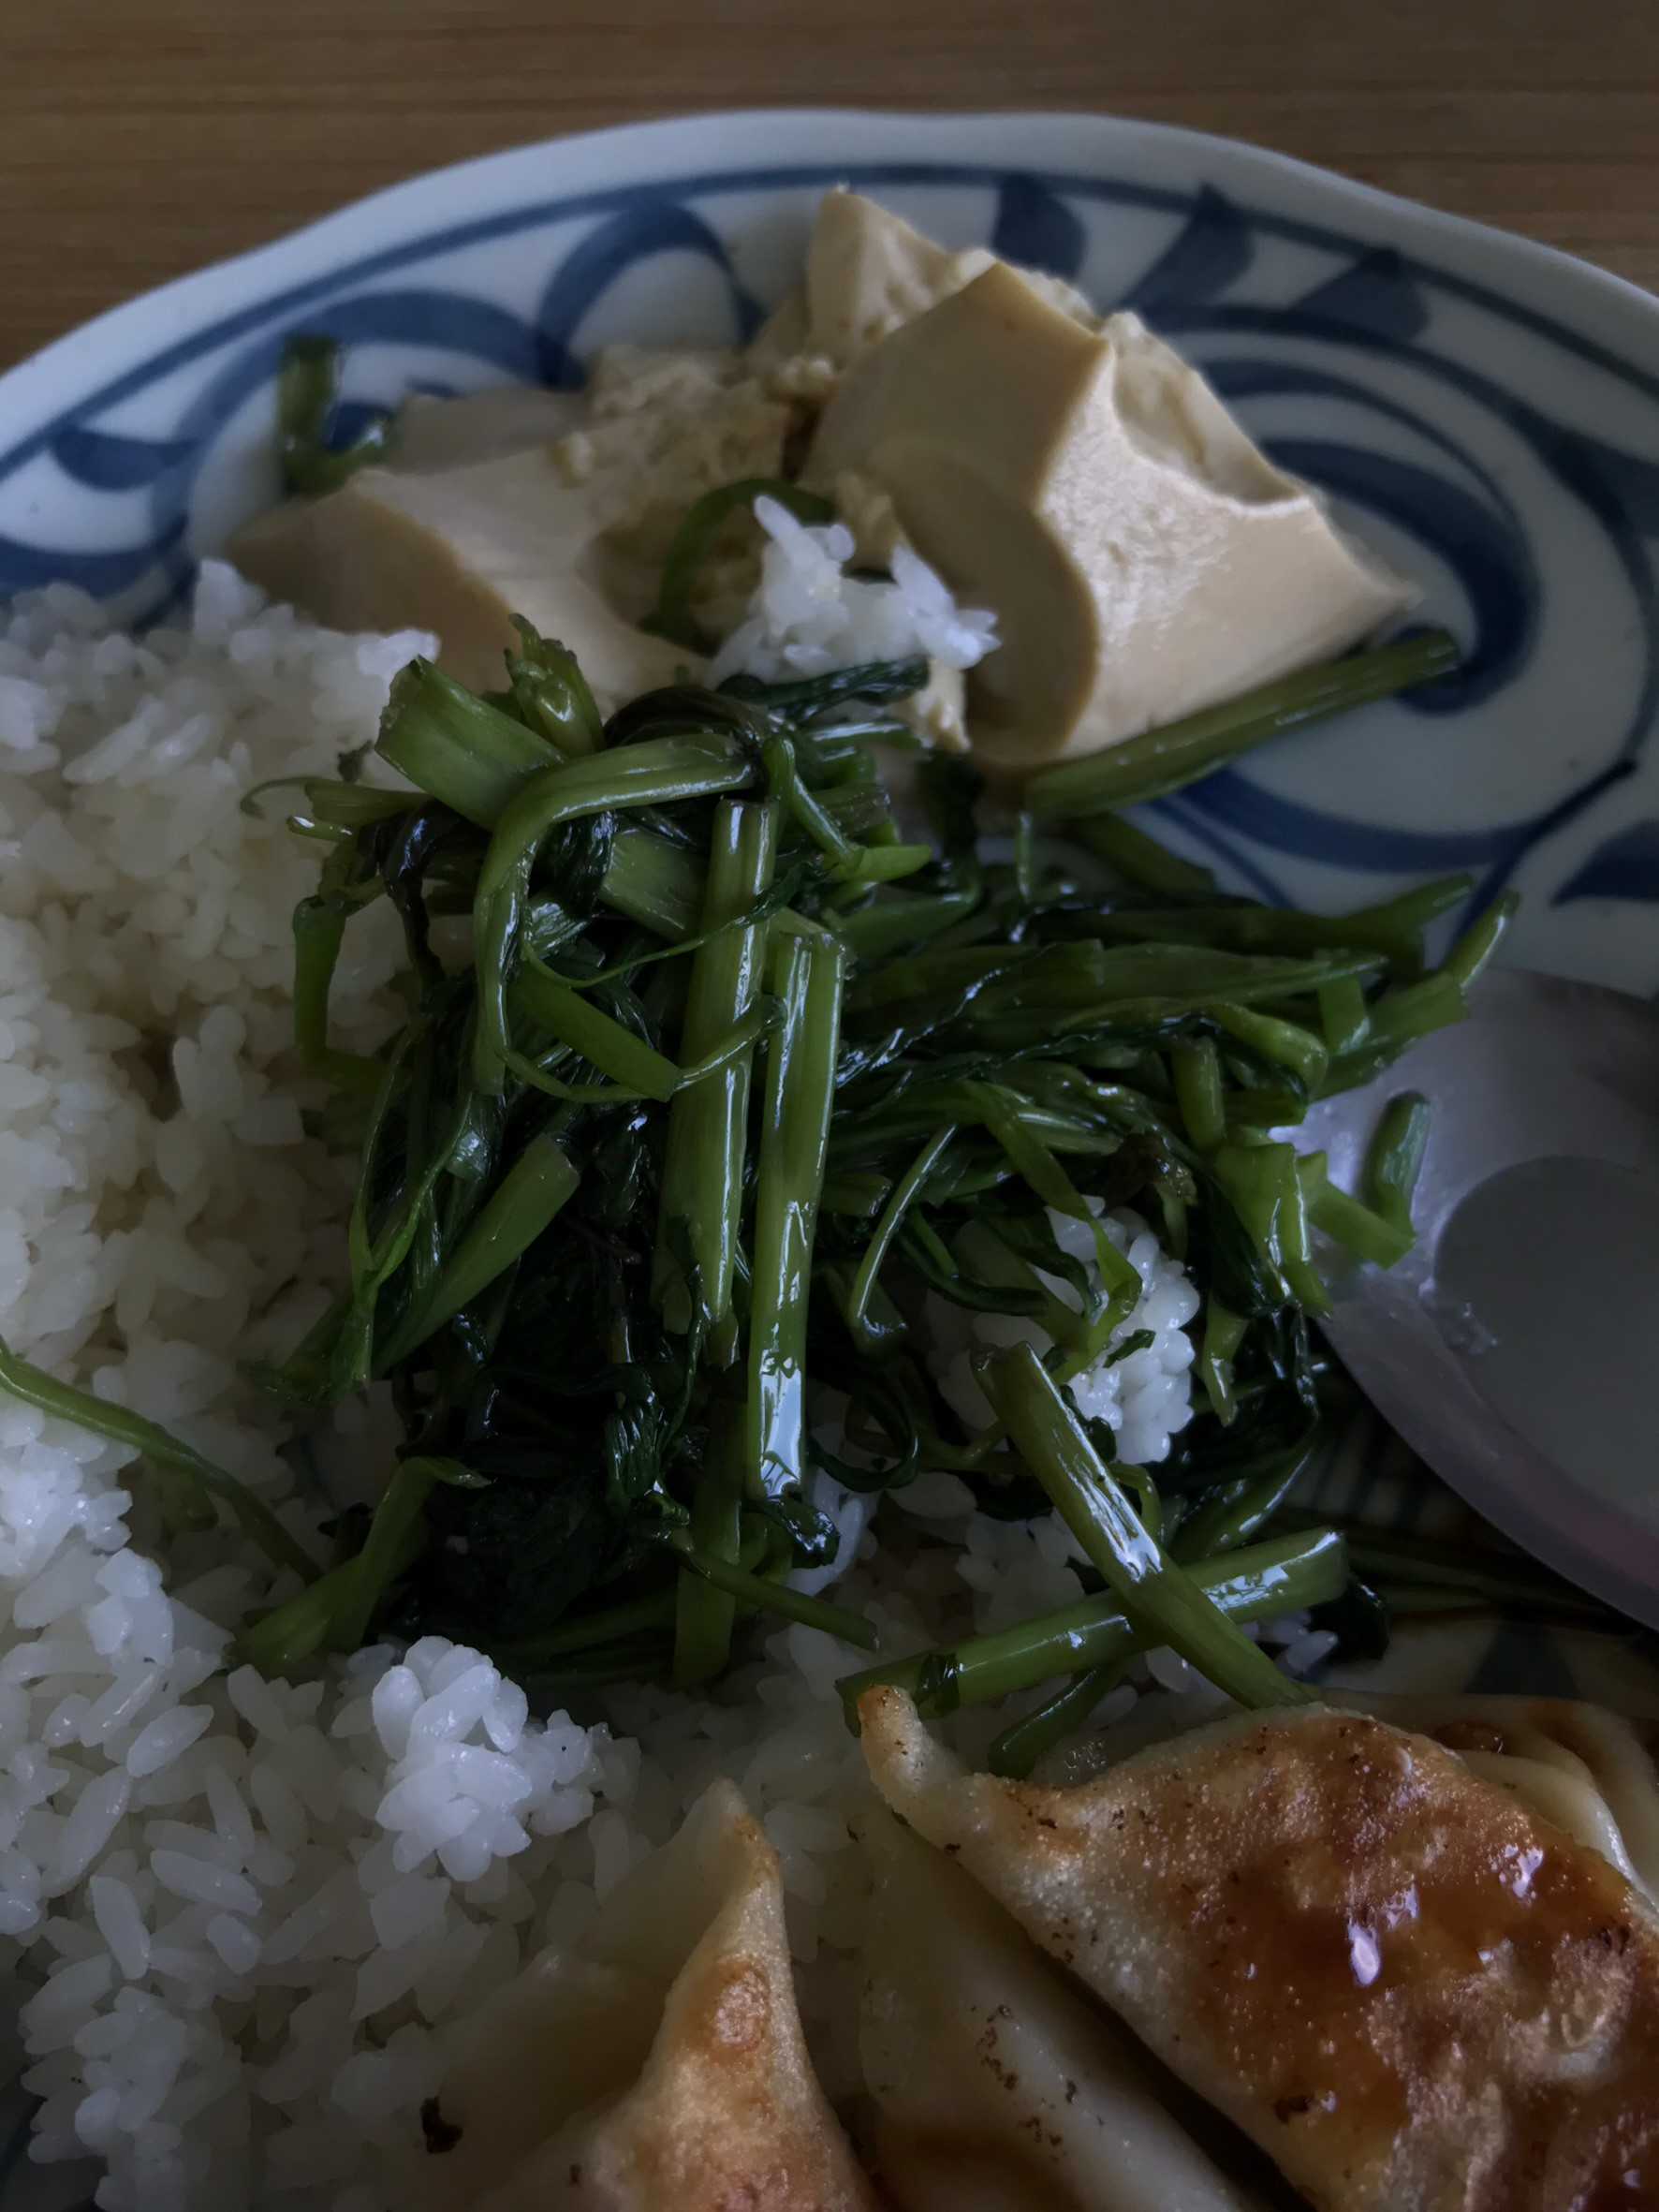fried_dumplings: (586, 1720, 1659, 2212)
rice: (28, 626, 345, 2186)
water_spinach: (397, 824, 1155, 1604)
